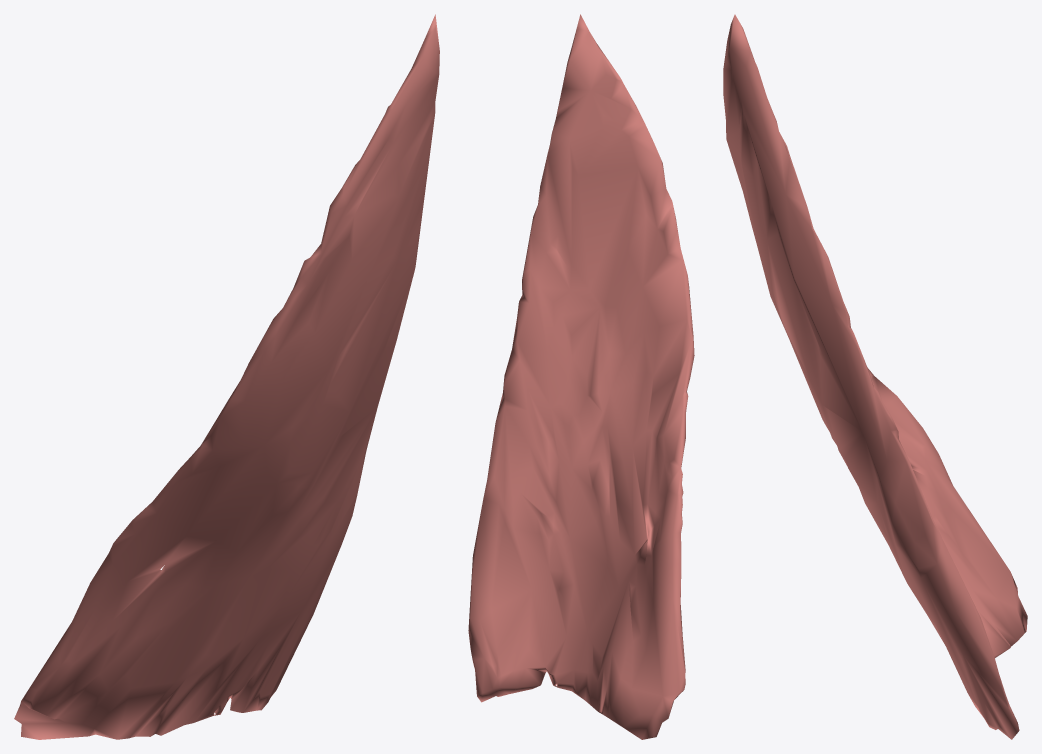
The picture shows the model from 3 angles, left to right: view 1: azimuth 30°, elevation 25°; view 2: azimuth 150°, elevation 25°; view 3: azimuth 270°, elevation 25°; orthographic projection. The views are drawn at different scales.
Visible parts, largest first — view 1: ZA_0621a260a8800797; view 2: ZA_0621a260a8800797; view 3: ZA_0621a260a8800797.
Part boxes in pixels (bbox=[...]): ZA_0621a260a8800797: bbox=[14, 14, 439, 739]; ZA_0621a260a8800797: bbox=[468, 14, 694, 739]; ZA_0621a260a8800797: bbox=[723, 14, 1027, 739].
Bounding box in the file's own units: 0.0279 × 0.0717 × 0.0269.
